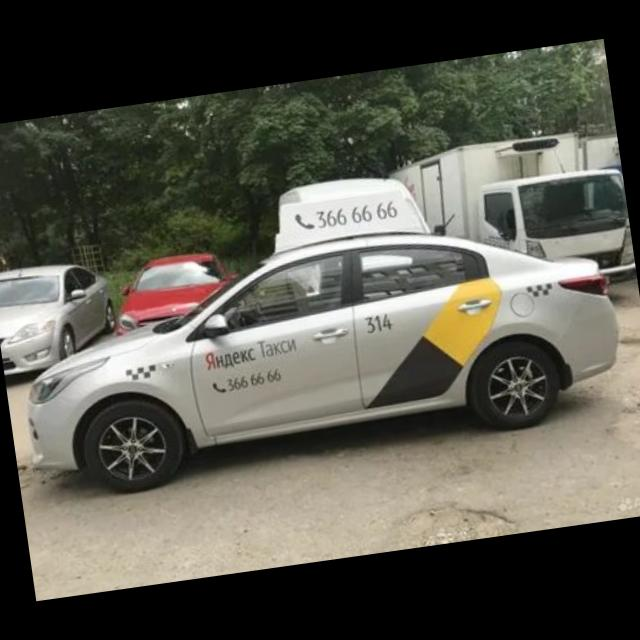taxi: (1, 144, 632, 506)
